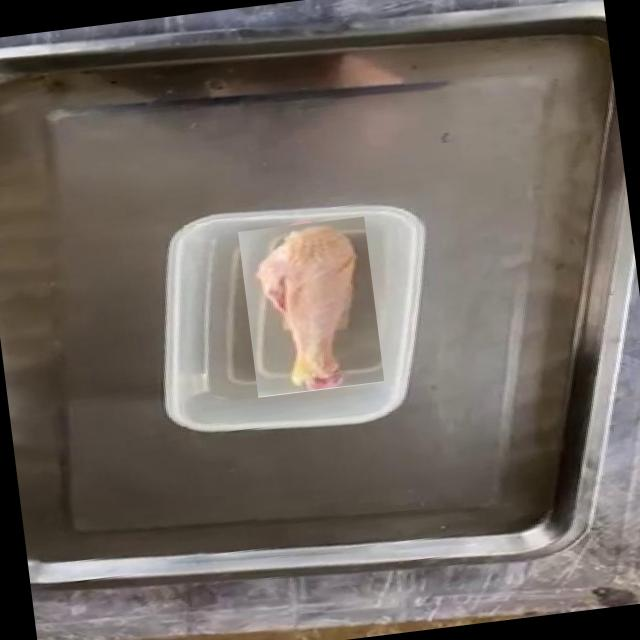chicken: (237, 216, 384, 397)
